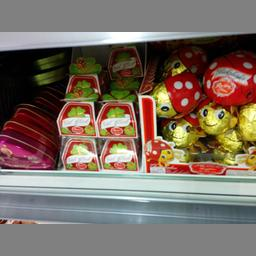chocolate: (202, 49, 255, 106), (140, 74, 198, 116), (0, 129, 55, 169), (92, 99, 138, 136), (50, 100, 100, 134), (58, 134, 97, 172), (159, 114, 201, 148), (93, 135, 136, 168), (196, 97, 234, 134), (62, 73, 100, 96)
